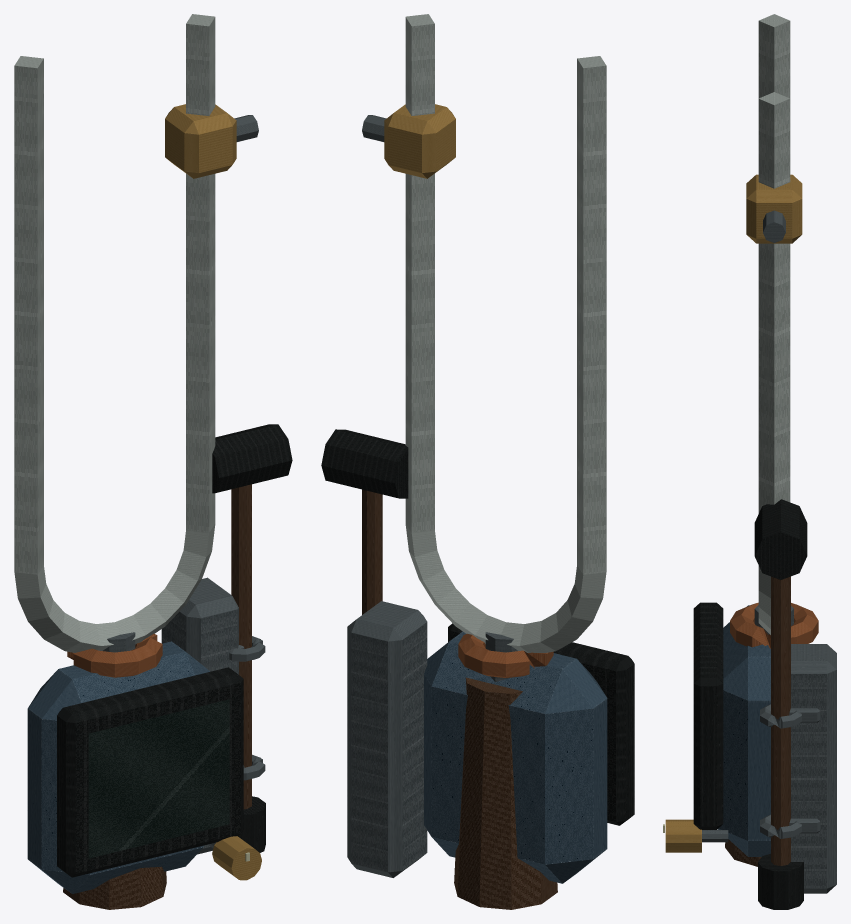
File: blender_resonance_tuner_2.glb
3 views of the same model, side by side, from view 1: azimuth 30°, elevation 25°; view 2: azimuth 150°, elevation 25°; view 3: azimuth 270°, elevation 25° (orthographic). The views are drawn at different scales.
Parts seen in each view (by area): view 1: blender_resonance_tuner_2; view 2: blender_resonance_tuner_2; view 3: blender_resonance_tuner_2.
Boxes of the visible parts, bbox=[...] form: blender_resonance_tuner_2: bbox=[14, 14, 292, 909]; blender_resonance_tuner_2: bbox=[321, 14, 634, 909]; blender_resonance_tuner_2: bbox=[663, 14, 836, 909].
Size of the model in its own units: 0.0873 by 0.264 by 0.0528.
Materials: 9 (9 with a texture image).
